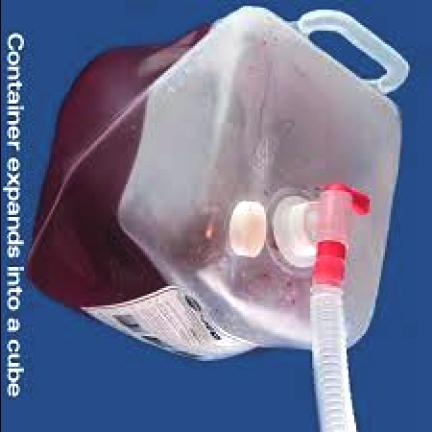container: (29, 5, 399, 359)
fluid: (29, 23, 254, 361)
fluid-surface: (117, 26, 317, 347)
